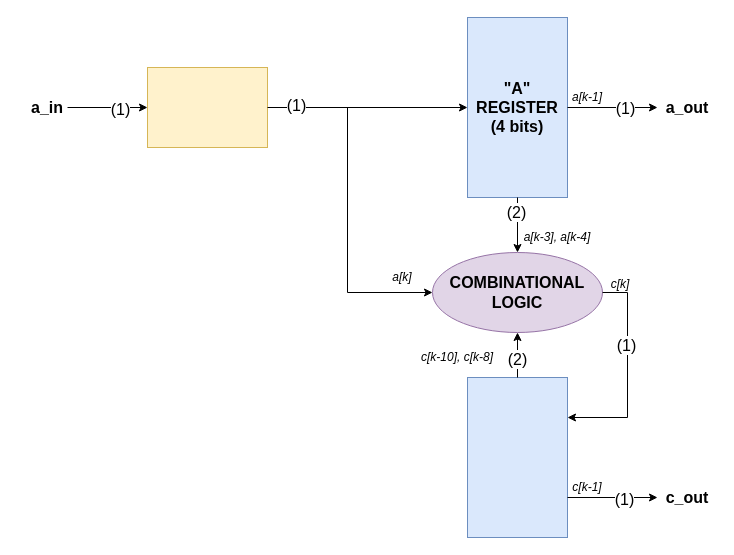
The diagram is 734 pixels wide and 555 high, and some of its shapes have lost their labels. Each missing label, with the centre of its shape:
"C" REGISTER (10 bit): the point at 517,457
INPUT D FLIP-FLOP (1 bit): the point at 207,107
